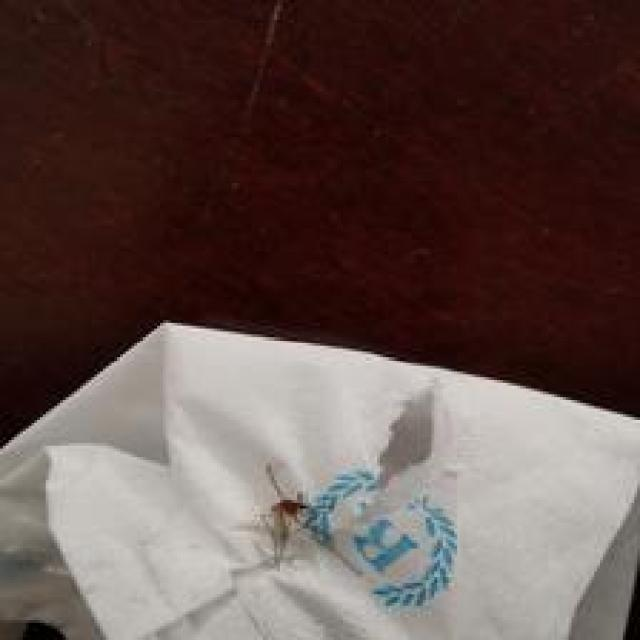Culex: (256, 457, 458, 614)
